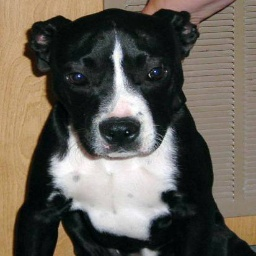dog: (13, 12, 247, 255)
